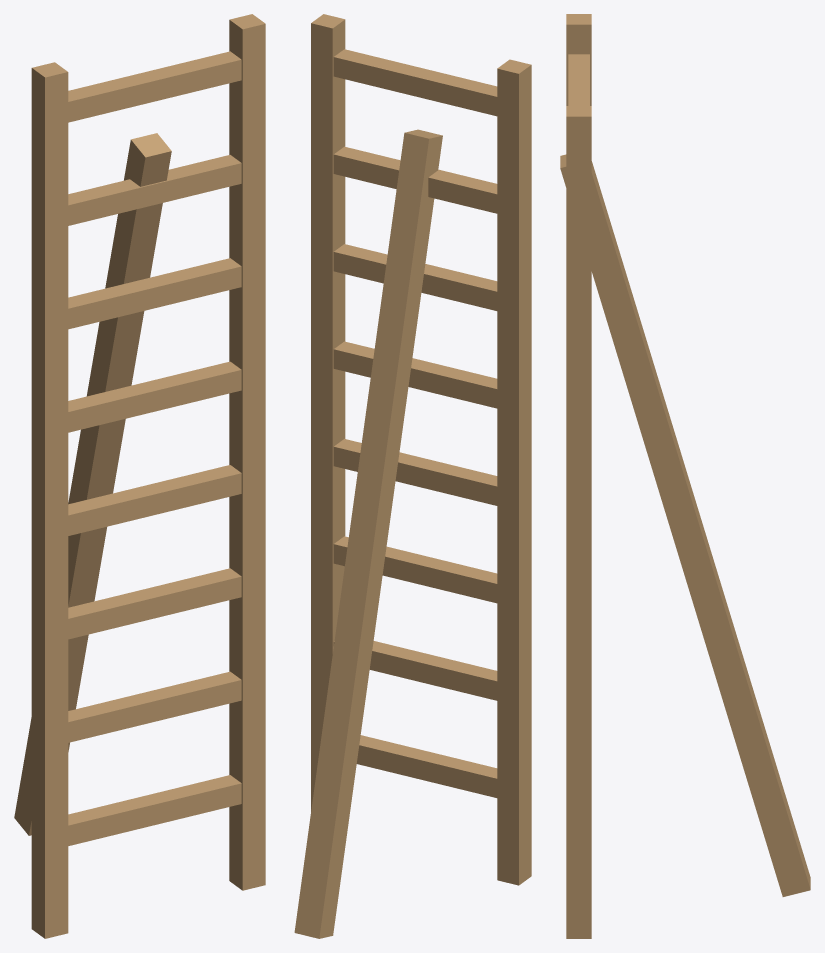
The model's file is cozy-farm-and-homestead-orchard-ladder-708b304a__19409.glb.
The picture shows the model from 3 angles, left to right: view 1: azimuth 30°, elevation 25°; view 2: azimuth 150°, elevation 25°; view 3: azimuth 270°, elevation 25°; orthographic projection. The views are drawn at different scales.
Parts seen in each view (by area): view 1: orchard-ladder; view 2: orchard-ladder; view 3: orchard-ladder.
Part boxes in pixels (left/top/right/bottom): orchard-ladder: left=14, top=14, right=265, bottom=938; orchard-ladder: left=294, top=14, right=531, bottom=938; orchard-ladder: left=560, top=14, right=810, bottom=938.
Size of the model in its own units: 0.6701 by 2.51 by 0.6906.
